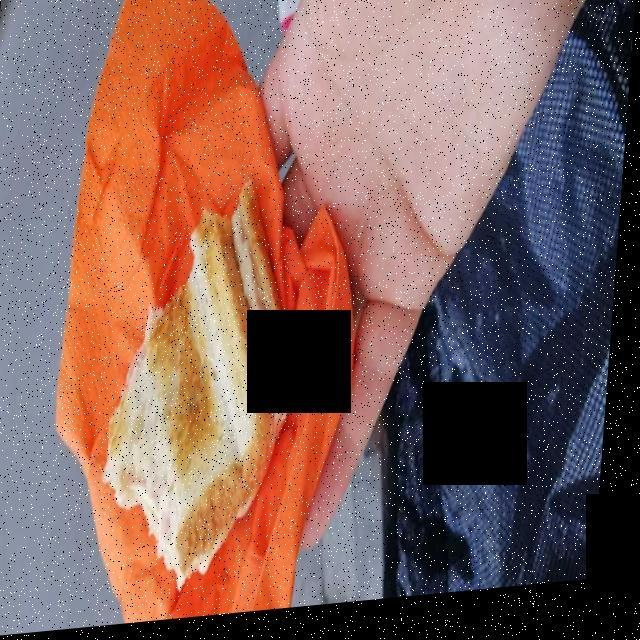croque-monsieur: (111, 213, 288, 585)
